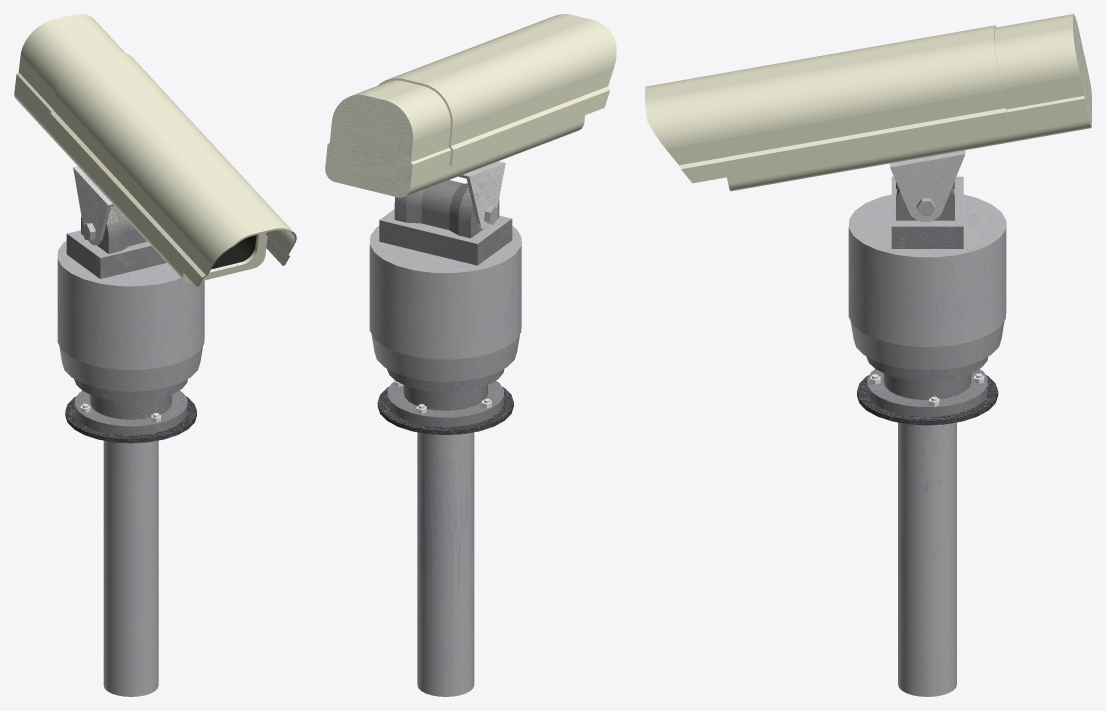
The model's file is camera.dae.
3 views of the same model, side by side, from view 1: azimuth 30°, elevation 25°; view 2: azimuth 150°, elevation 25°; view 3: azimuth 270°, elevation 25° (orthographic). The views are drawn at different scales.
Parts seen in each view (by area): view 1: CCTV_Camera__Rotating_ (×11), SketchUp (×3); view 2: CCTV_Camera__Rotating_ (×11), SketchUp (×2); view 3: CCTV_Camera__Rotating_ (×11), SketchUp (×2).
Part boxes in pixels (box(x1,y1,x2,y2)): CCTV_Camera__Rotating_ (×11): box(57, 167, 204, 696); SketchUp (×3): box(14, 14, 296, 286); CCTV_Camera__Rotating_ (×11): box(369, 163, 521, 696); SketchUp (×2): box(325, 14, 616, 197); CCTV_Camera__Rotating_ (×11): box(848, 150, 1006, 696); SketchUp (×2): box(645, 14, 1091, 191).
Size of the model in its own units: 4.16 by 11.8 by 19.3.
